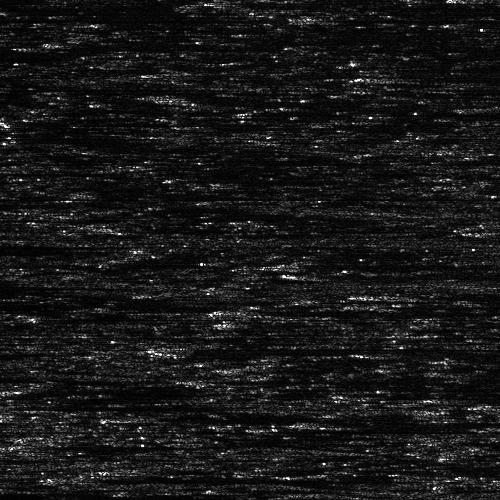object: (0, 385, 88, 396), (140, 342, 213, 355), (330, 291, 435, 300), (331, 303, 424, 312), (352, 73, 435, 82), (297, 419, 370, 428), (162, 376, 245, 383), (254, 261, 317, 268), (9, 439, 40, 452), (264, 272, 327, 277), (459, 227, 490, 236), (225, 307, 236, 314), (434, 0, 500, 1)
shadow: (177, 342, 500, 355), (31, 385, 216, 396), (230, 307, 500, 314), (24, 439, 150, 452), (333, 419, 500, 428), (286, 261, 496, 268), (378, 303, 500, 312), (383, 291, 500, 300), (296, 272, 500, 277), (204, 376, 332, 383), (0, 495, 149, 500), (393, 73, 475, 82), (475, 227, 500, 236)
